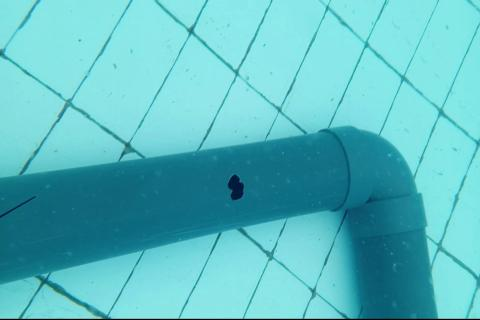kebocoran: (227, 172, 245, 202)
keretakan: (0, 193, 38, 220)
